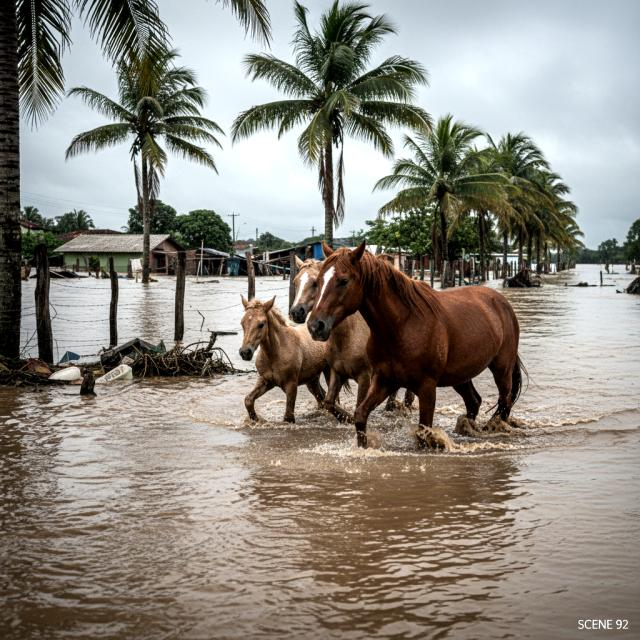horse: (298, 239, 528, 466), (282, 249, 394, 429), (232, 291, 340, 434)
